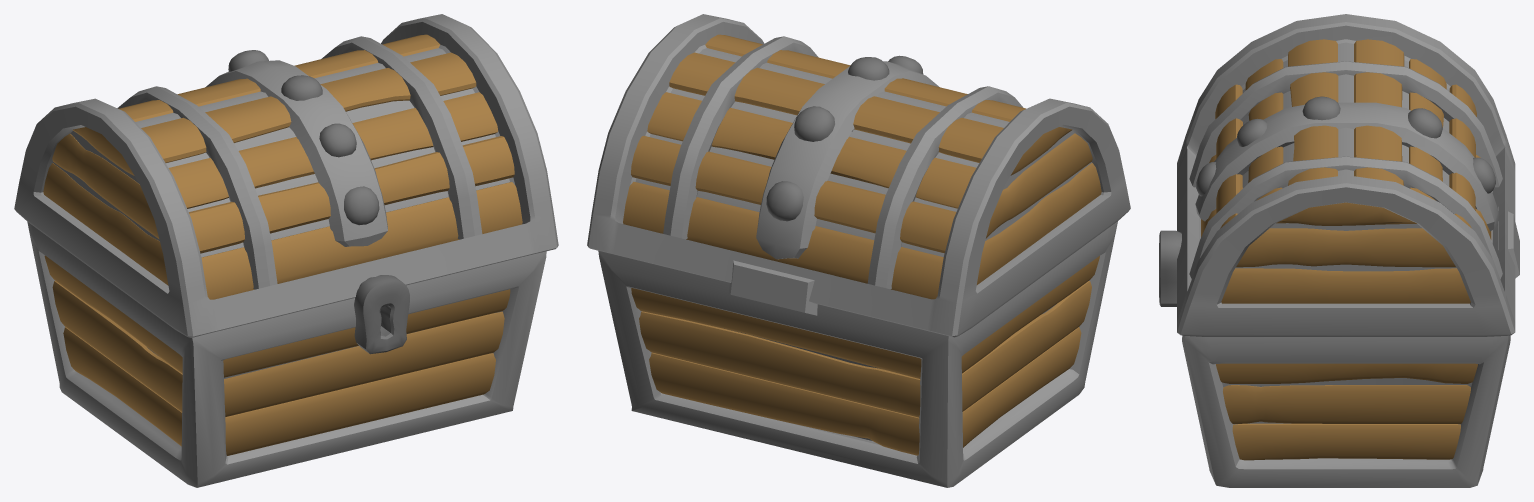
The model's file is Chest.fbx.
3 views of the same model, side by side, from view 1: azimuth 30°, elevation 25°; view 2: azimuth 150°, elevation 25°; view 3: azimuth 270°, elevation 25° (orthographic). The views are drawn at different scales.
Parts seen in each view (by area): view 1: Chest_Top, Chest_Bottom; view 2: Chest_Top, Chest_Bottom; view 3: Chest_Top, Chest_Bottom.
Boxes of the visible parts, <box> form: Chest_Top: <box>14,14,558,337</box>; Chest_Bottom: <box>27,222,546,487</box>; Chest_Top: <box>587,14,1130,337</box>; Chest_Bottom: <box>598,221,1117,487</box>; Chest_Top: <box>1177,14,1519,336</box>; Chest_Bottom: <box>1159,230,1510,487</box>.
Size of the model in its own units: 2.14 by 1.81 by 1.88.
